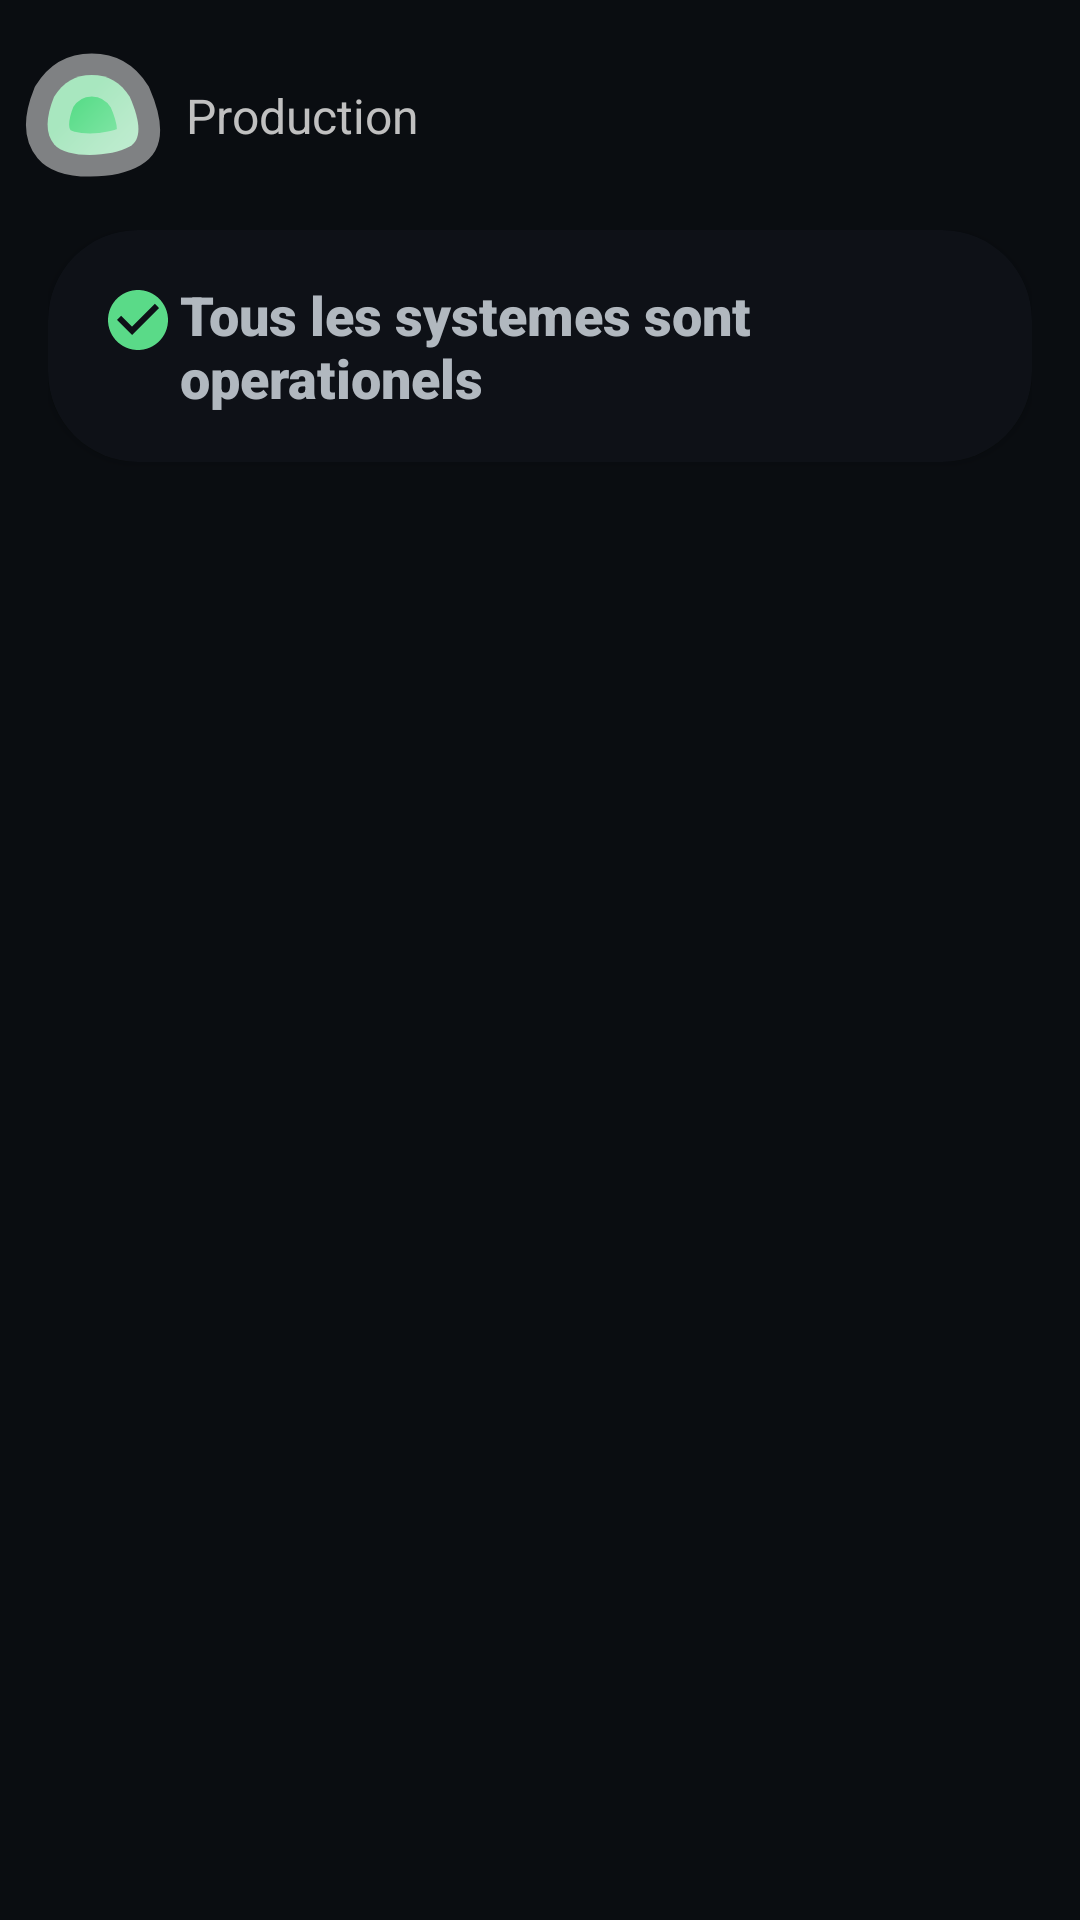

Point at icon controls on the screen. Image size 1080px×1920px, points as (x=x, y=y).
check circle: (x=138, y=320)
